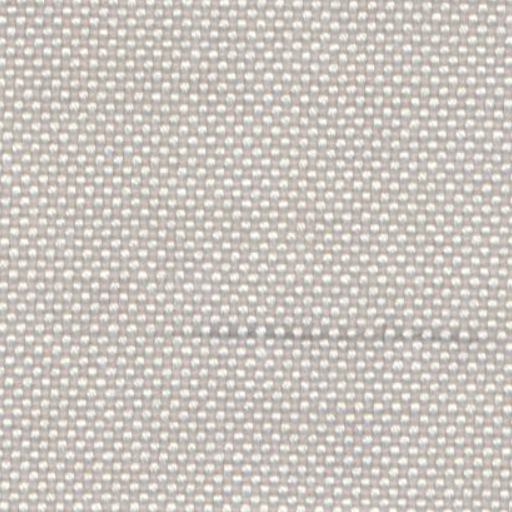WuZi: (181, 314, 476, 346)
